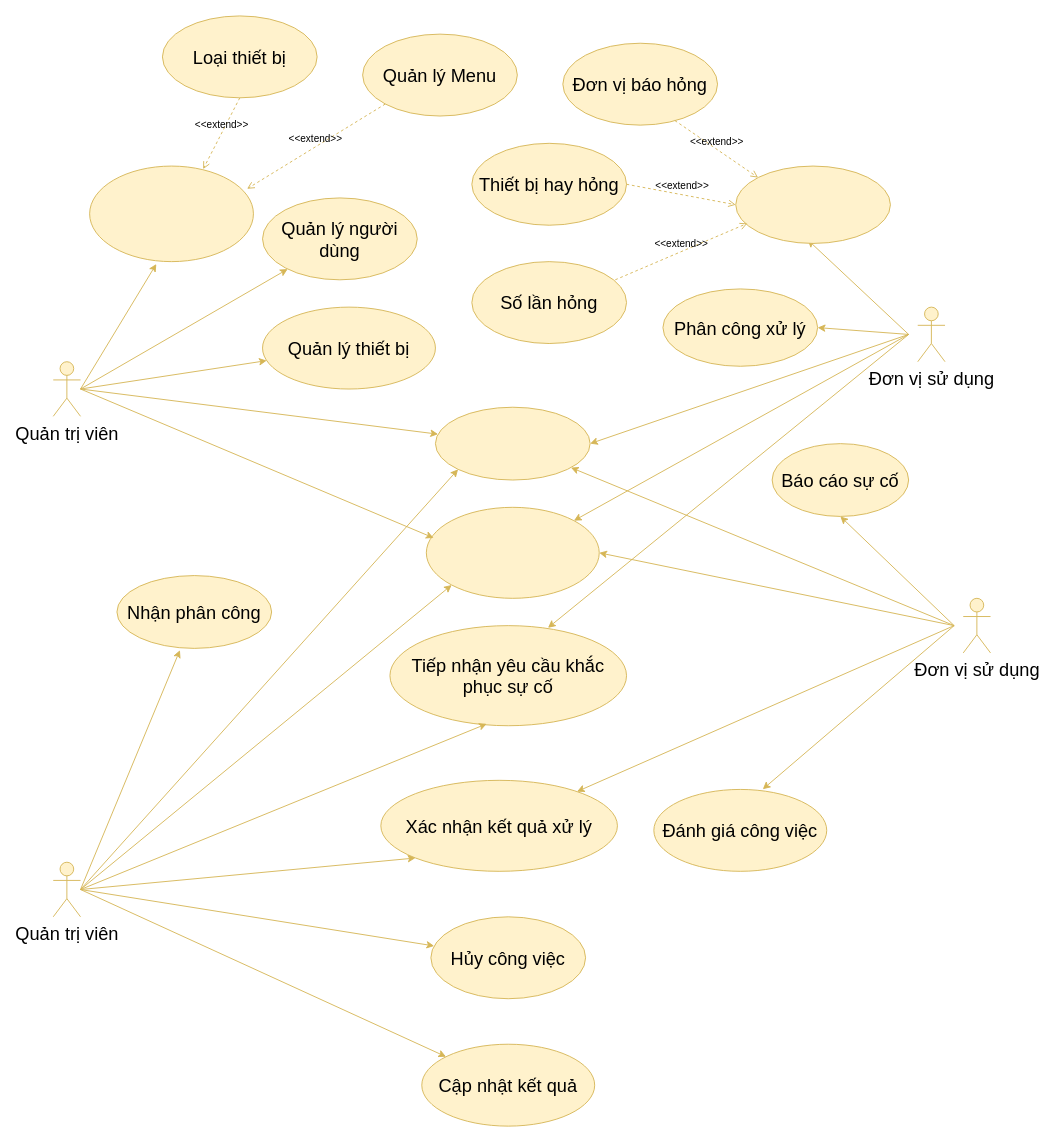
Some shapes in this 1056 by 1142 pixel diagram are drawn without their labels. Each missing label, with the box of its shape:
Quản lý danh mục chung: (89, 165, 253, 262)
Quản lý tài khoản cá nhân: (425, 506, 599, 598)
Thống kê, báo cáo: (735, 165, 890, 243)
Đăng nhập: (435, 406, 590, 480)
